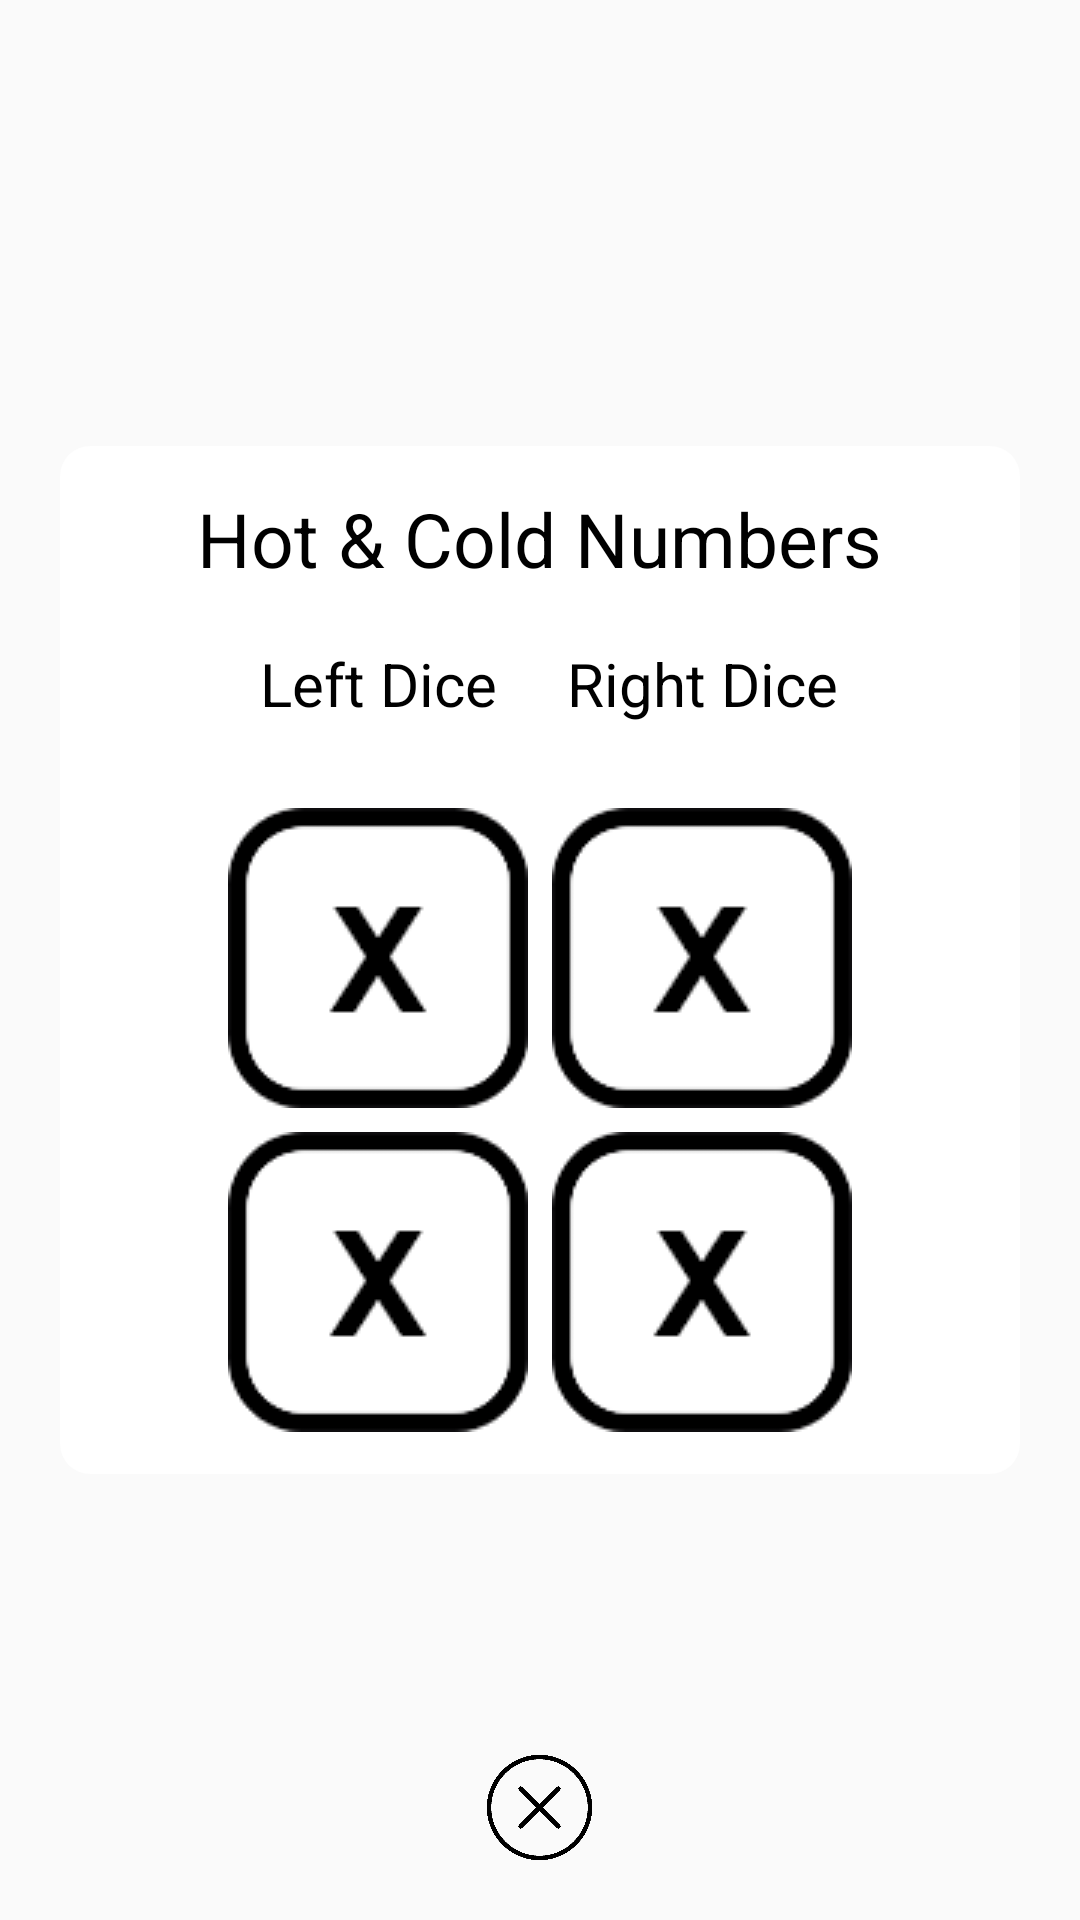

Where to tap for icons on this 1080x1920 app screen, as (x=x, y=y):
close: (x=539, y=1807)
